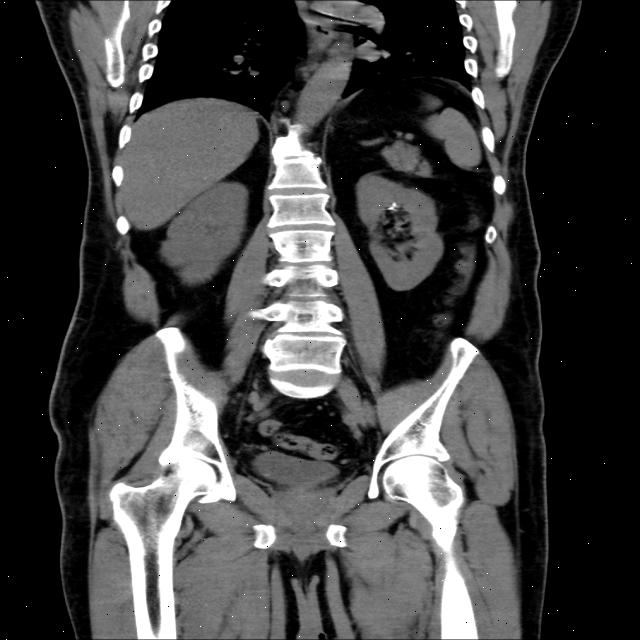kidneystone: (385, 202, 403, 211)
